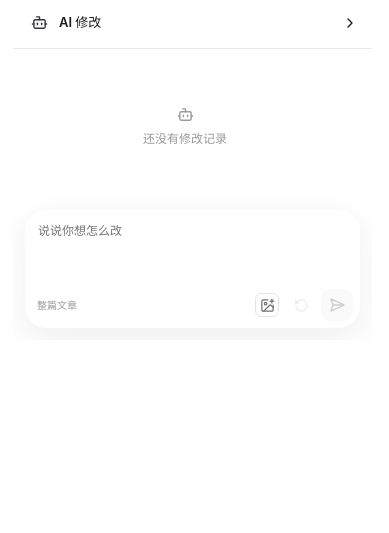
Test: ArticleAssistant › lets the user keep current images after a low match warning
The image size is (389, 533).
In the text box with placeholder "说说你想怎么改": coordinates (192, 248) 26,211 -> 359,285, type "全文改写"
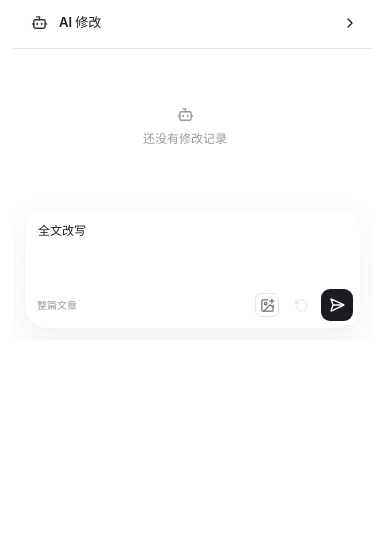
Click the button named "应用 AI 修改": coordinates (337, 305) 321,289 -> 353,321
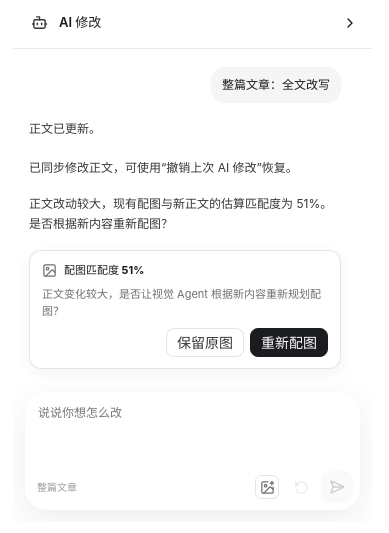
Check: the text "配图匹配度 51%" is shown, box 64,262 -> 144,278
Click the button "保留原图": coordinates (205, 343) 166,328 -> 244,357
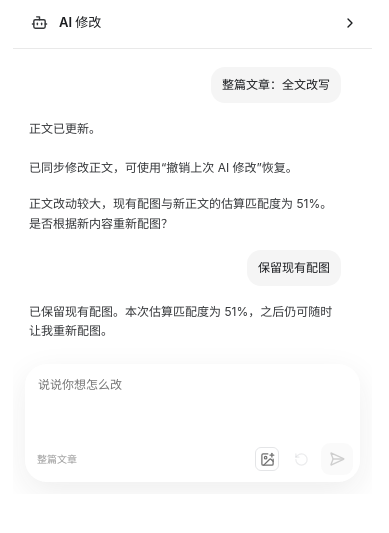
Check: the text "已保留现有配图。本次估算匹配度为 51%，之后仍可随时让我重新配图。" is shown, box 29,302 -> 341,341
